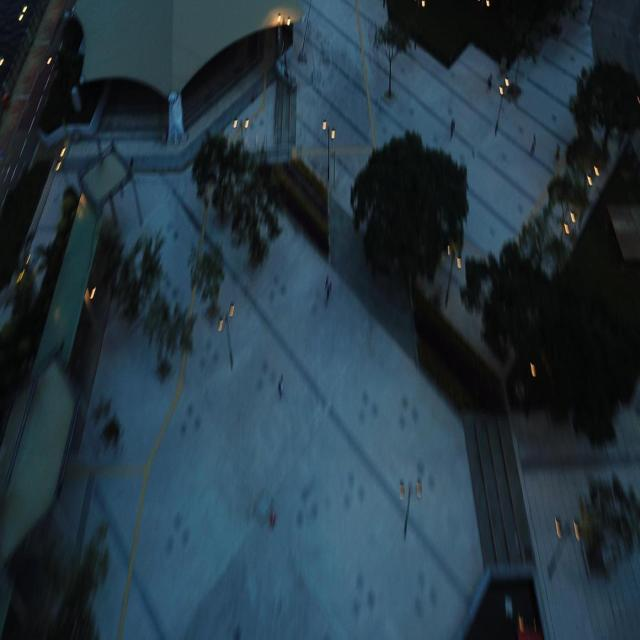person: (324, 274, 332, 302), (278, 372, 283, 398), (450, 117, 455, 140)
tree: (372, 17, 410, 98)
